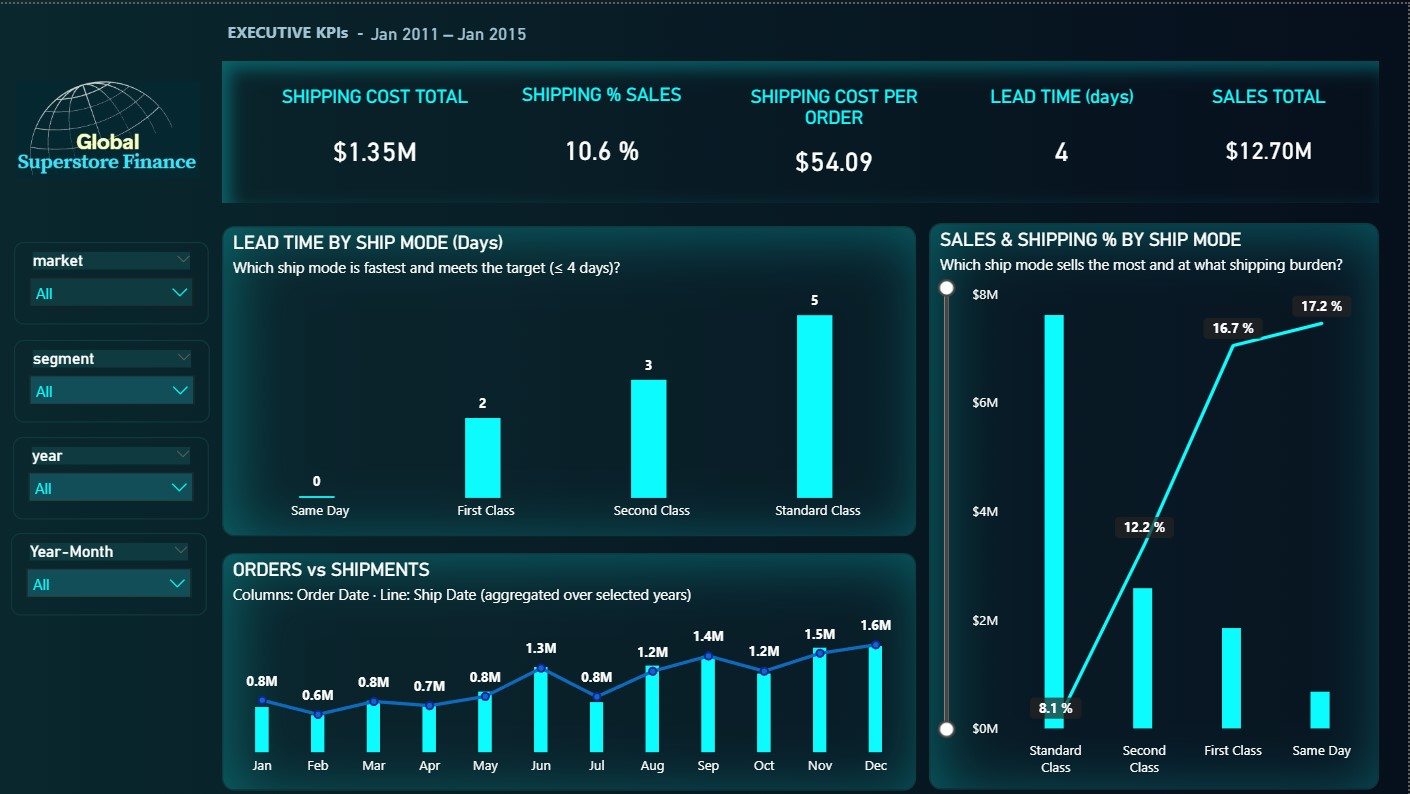

The page's visual inventory and layout, read from the dashboard file:
{"tool":"powerbi","page":{"name":"03 Shipping & Operations","canvas":[1280,720],"ordinal":2},"visuals":[{"type":"shape","box":[202,52,1052,129],"z":0},{"type":"card","title":"SHIPPING COST TOTAL","fields":{"Values":["_Measures.Shipping Cost Total"]},"box":[243.9,73.3,194.5,99.8],"z":1000},{"type":"slicer","fields":{"Values":["Dim Customer.segment"]},"box":[12.7,305.7,177.7,75],"z":1000,"group":"g1"},{"type":"slicer","fields":{"Values":["Dim Geo.market"]},"box":[13.1,216.7,177.3,75.5],"z":2000,"group":"g1"},{"type":"card","title":"SHIPPING COST PER ORDER","fields":{"Values":["_Measures.Shipping Cost per Order"]},"box":[655.1,73.3,205.6,99.8],"z":2000},{"type":"card","title":"LEAD TIME (days)","fields":{"Values":["_Measures.Lead Time (days)"]},"box":[884.9,73.3,161.3,99.8],"z":3000},{"type":"slicer","fields":{"Values":["Dim Date.year"]},"box":[11.9,394.4,177.7,75.4],"z":3000,"group":"g1"},{"type":"card","title":"SHIPPING % SALES","fields":{"Values":["_Measures.Shipping % Sales"]},"box":[462.6,71.7,168.3,102.8],"z":4000},{"type":"slicer","fields":{"Values":["Dim Date.Year-Month"]},"box":[10.1,481.4,177.7,74.6],"z":4000,"group":"g1"},{"type":"textbox","box":[202,9.9,193.9,37.7],"z":5000},{"type":"card","fields":{"Values":["_Measures.Active Date Range"]},"box":[322.3,12.6,170.6,31.4],"z":6000},{"type":"group","id":"g1","title":"Group 1","box":[10.1,216.7,180.4,338.6],"z":7000},{"type":"card","title":"SALES TOTAL","fields":{"Values":["_Measures.Sales Total"]},"box":[1070.4,73.3,167.3,99.8],"z":8000},{"type":"lineStackedColumnComboChart","title":"ORDERS vs SHIPMENTS","fields":{"Y2":["_Measures.Sales by Ship Date"],"Category":["Dim Date.month_name"],"Y":["_Measures.Sales Total"]},"box":[202,499,631,216],"z":9000},{"type":"lineClusteredColumnComboChart","title":"SALES & SHIPPING % BY SHIP MODE","fields":{"Y":["_Measures.Sales Total"],"Y2":["_Measures.Shipping % Sales"],"Category":["Fact Sales.ship_mode"]},"box":[844.8,199.3,409.4,515.3],"z":10000},{"type":"lineClusteredColumnComboChart","title":"LEAD TIME BY SHIP MODE (Days)","fields":{"Category":["Fact Sales.ship_mode"],"Y":["_Measures.Lead Time (days)"]},"box":[202,202,631,282],"z":11000},{"type":"image","box":[9.1,47.4,178.4,134],"z":11001}]}

Visuals, with their boxes in screenshot pixels (x1, y1, x2, y2), scaled from the page's 1280x720 canvas onto the 1410x794 screenshot:
shape: <box>223,57,1381,200</box>
"SHIPPING COST TOTAL" card: <box>269,81,483,191</box>
slicer - Dim Customer.segment: <box>14,337,210,420</box>
slicer - Dim Geo.market: <box>14,239,210,322</box>
"SHIPPING COST PER ORDER" card: <box>722,81,948,191</box>
"LEAD TIME (days)" card: <box>975,81,1152,191</box>
slicer - Dim Date.year: <box>13,435,209,518</box>
"SHIPPING % SALES" card: <box>510,79,695,192</box>
slicer - Dim Date.Year-Month: <box>11,531,207,613</box>
textbox: <box>223,11,436,52</box>
card - _Measures.Active Date Range: <box>355,14,543,49</box>
"Group 1" group: <box>11,239,210,612</box>
"SALES TOTAL" card: <box>1179,81,1363,191</box>
"ORDERS vs SHIPMENTS" lineStackedColumnComboChart: <box>223,550,918,788</box>
"SALES & SHIPPING % BY SHIP MODE" lineClusteredColumnComboChart: <box>931,220,1382,788</box>
"LEAD TIME BY SHIP MODE (Days)" lineClusteredColumnComboChart: <box>223,223,918,534</box>
image: <box>10,52,207,200</box>
